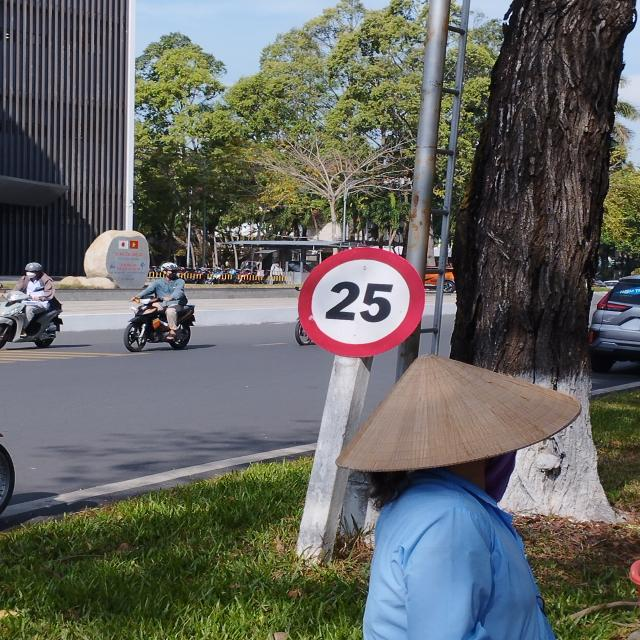Tre_Em: (300, 246, 426, 357)
